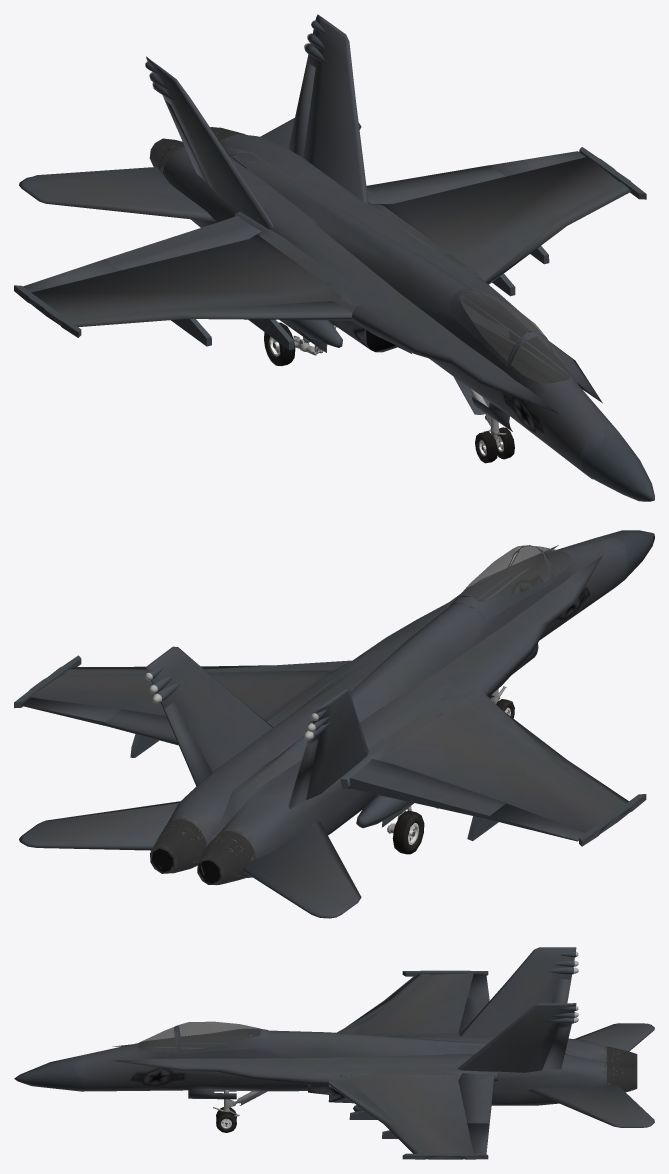
3 views of the same model, one above another, from view 1: azimuth 30°, elevation 25°; view 2: azimuth 150°, elevation 25°; view 3: azimuth 270°, elevation 25° (orthographic). The views are drawn at different scales.
Parts seen in each view (by area): view 1: Fuselage_Mesh, Wing_Right_Mesh, Wing_Left_Mesh, VerticalTail_Left_Mesh, Elevator_Right_Mesh, VerticalTail_Right_Mesh, Canopy_Mesh, LeadingEdge_Right_Mesh, Flap_Right_Mesh, LeadingEdge_Left_Mesh, WingRoot_Mesh, Flap_Left_Mesh (+5 smaller); view 2: Fuselage_Mesh, Wing_Right_Mesh, Wing_Left_Mesh, VerticalTail_Left_Mesh, Elevator_Right_Mesh, Elevator_Left_Mesh, VerticalTail_Right_Mesh, Flap_Right_Mesh, Canopy_Mesh, WingRoot_Mesh, LeadingEdge_Right_Mesh, Exhaust_Left_Mesh (+8 smaller); view 3: Fuselage_Mesh, Wing_Left_Mesh, Wing_Right_Mesh, VerticalTail_Right_Mesh, VerticalTail_Left_Mesh, Elevator_Left_Mesh, Canopy_Mesh, Flap_Left_Mesh, LeadingEdge_Left_Mesh, Elevator_Right_Mesh, WingRoot_Mesh, LeadingEdge_Right_Mesh (+9 smaller).
Boxes of the visible parts, x1,y1,x2,y2 form: Fuselage_Mesh: (163, 134, 654, 501); Wing_Right_Mesh: (14, 234, 342, 350); Wing_Left_Mesh: (381, 147, 646, 296); VerticalTail_Left_Mesh: (303, 14, 368, 205); Elevator_Right_Mesh: (19, 167, 215, 221); VerticalTail_Right_Mesh: (145, 56, 273, 229); Canopy_Mesh: (459, 290, 571, 383); LeadingEdge_Right_Mesh: (66, 297, 355, 326); Flap_Right_Mesh: (105, 215, 261, 270); LeadingEdge_Left_Mesh: (466, 182, 631, 284); WingRoot_Mesh: (234, 201, 478, 315); Flap_Left_Mesh: (366, 165, 505, 206); Fuselage_Mesh: (167, 530, 654, 877); Wing_Right_Mesh: (356, 698, 646, 846); Wing_Left_Mesh: (14, 655, 341, 772); VerticalTail_Left_Mesh: (145, 646, 272, 771); Elevator_Right_Mesh: (243, 821, 361, 918); Elevator_Left_Mesh: (19, 801, 180, 850); VerticalTail_Right_Mesh: (304, 689, 368, 799); Flap_Right_Mesh: (349, 759, 505, 819); Canopy_Mesh: (459, 545, 571, 601); WingRoot_Mesh: (267, 658, 478, 789); LeadingEdge_Right_Mesh: (466, 689, 628, 809); Exhaust_Left_Mesh: (150, 819, 206, 873); Fuselage_Mesh: (14, 1025, 606, 1105); Wing_Left_Mesh: (347, 1075, 488, 1159); Wing_Right_Mesh: (352, 970, 488, 1035); VerticalTail_Right_Mesh: (459, 947, 578, 1035); VerticalTail_Left_Mesh: (457, 1003, 578, 1072); Elevator_Left_Mesh: (528, 1085, 654, 1127); Canopy_Mesh: (138, 1021, 260, 1052); Flap_Left_Mesh: (458, 1073, 494, 1125); LeadingEdge_Left_Mesh: (329, 1075, 428, 1153); Elevator_Right_Mesh: (575, 1023, 654, 1051); WingRoot_Mesh: (329, 1034, 498, 1082); LeadingEdge_Right_Mesh: (336, 974, 429, 1033).
Bounding box in the file's own units: 11.69 × 4.53 × 17.07.
Materials: 4 (4 with a texture image).
